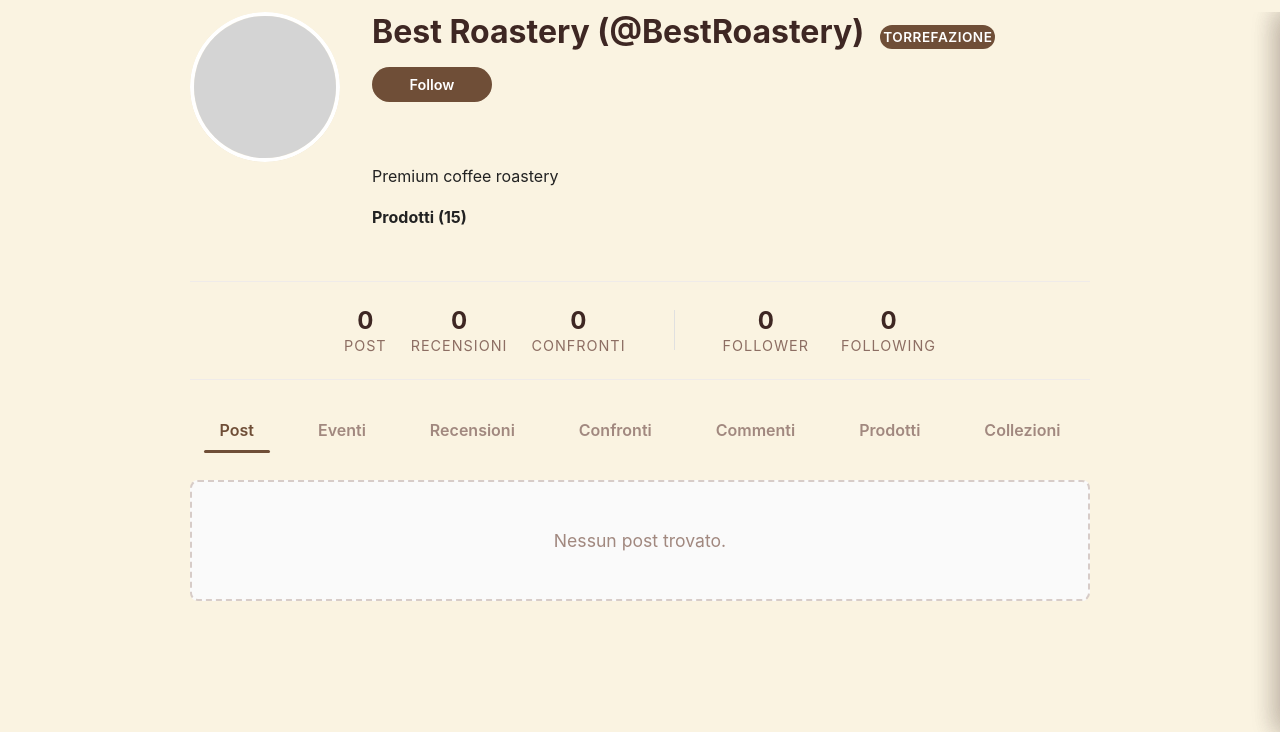
Scenario: Profile Page › Tab Switching › shows collections tab for Torrefazione role
# Increased timeout for state updates
Click the button "Collezioni" at coordinates (1022, 430), box left=968, top=412, right=1076, bottom=448
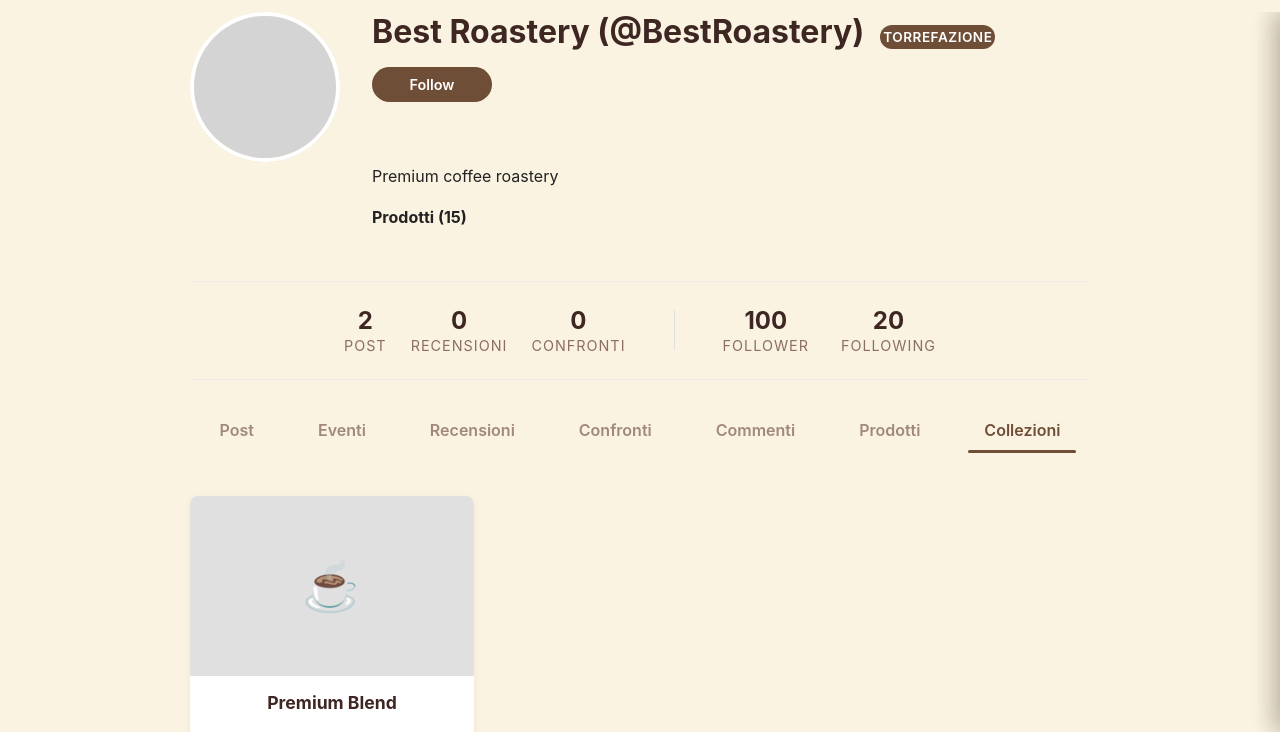
Result: the heading "Premium Blend" is shown at left=267, top=692, right=397, bottom=712
